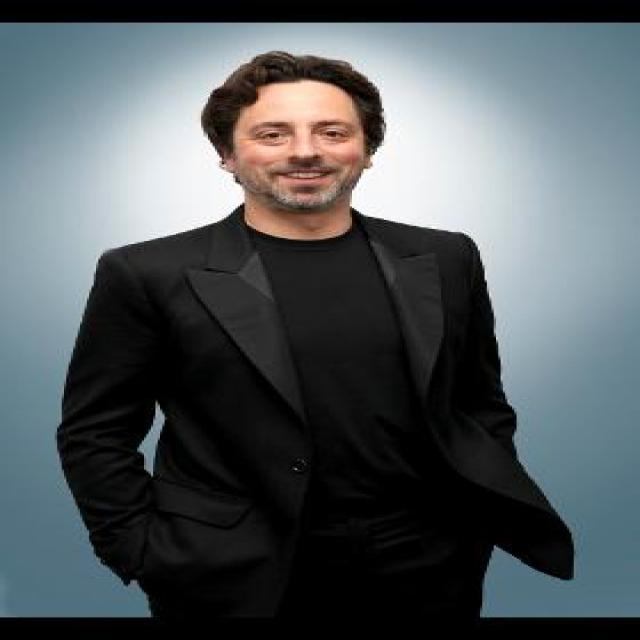human: (46, 46, 586, 622)
